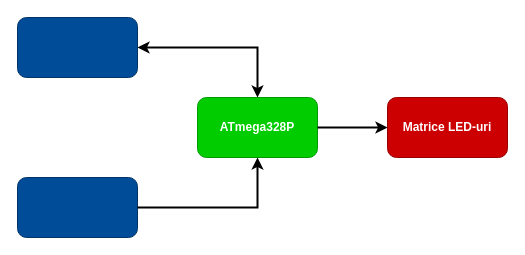
Image size: 525x255. Some labels were removed from this diagram. Here are the shapes that lost their labels. From the top down, the centre of each, then its label:
(x=77, y=47): Card SD
(x=77, y=207): Butoane
